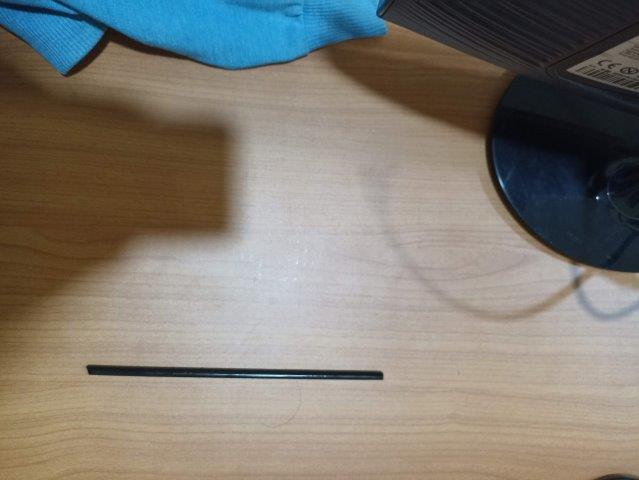sedotan: (87, 365, 383, 380)
